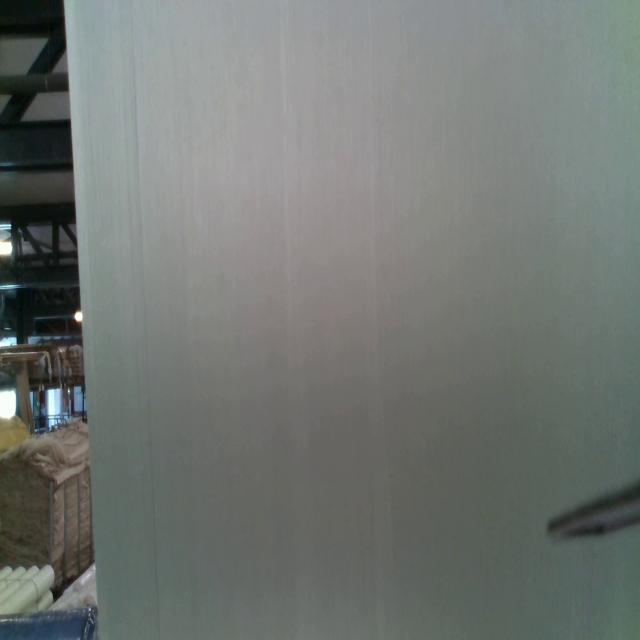crease: (132, 3, 162, 640), (366, 0, 394, 640), (278, 1, 297, 418)
